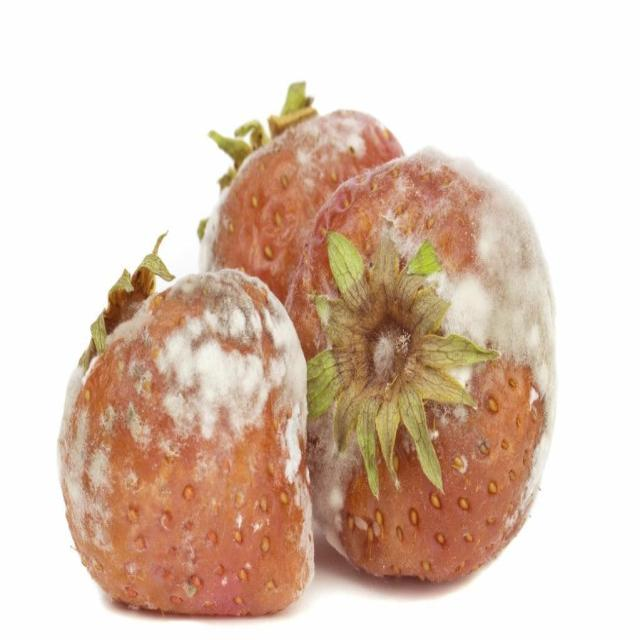Wet Waste: (58, 80, 556, 620)
